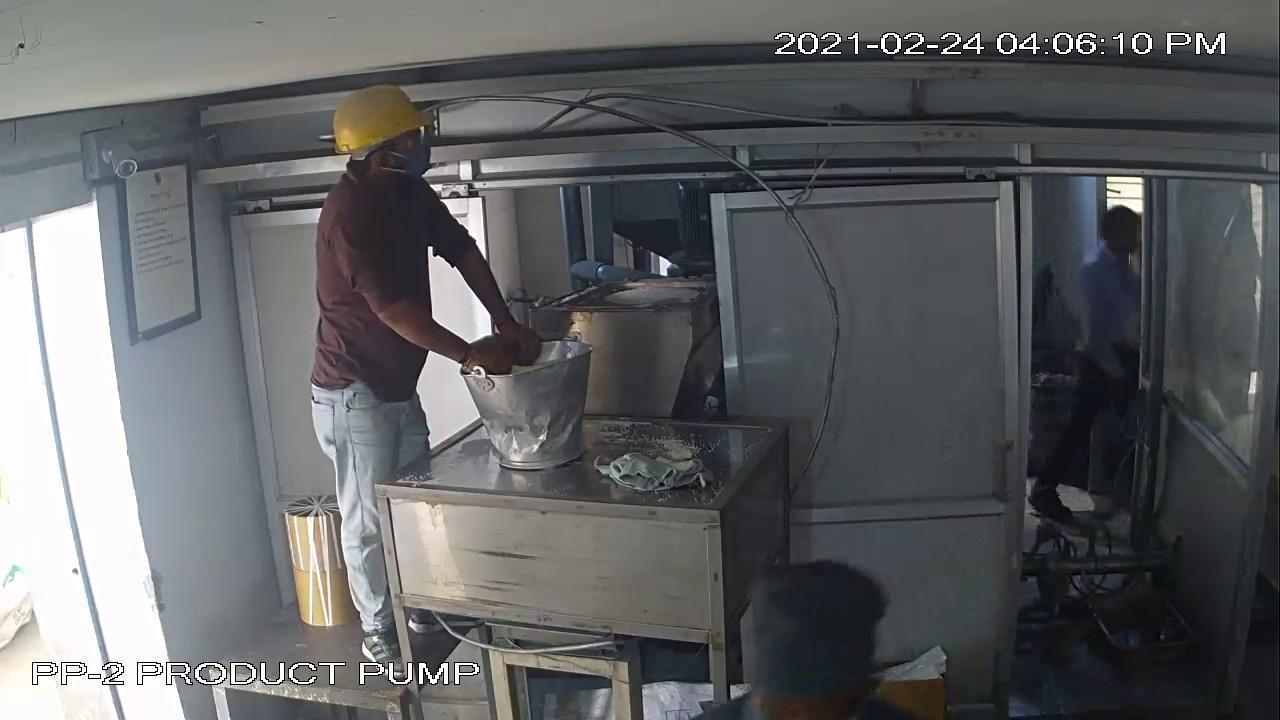helmet: (328, 80, 441, 156)
